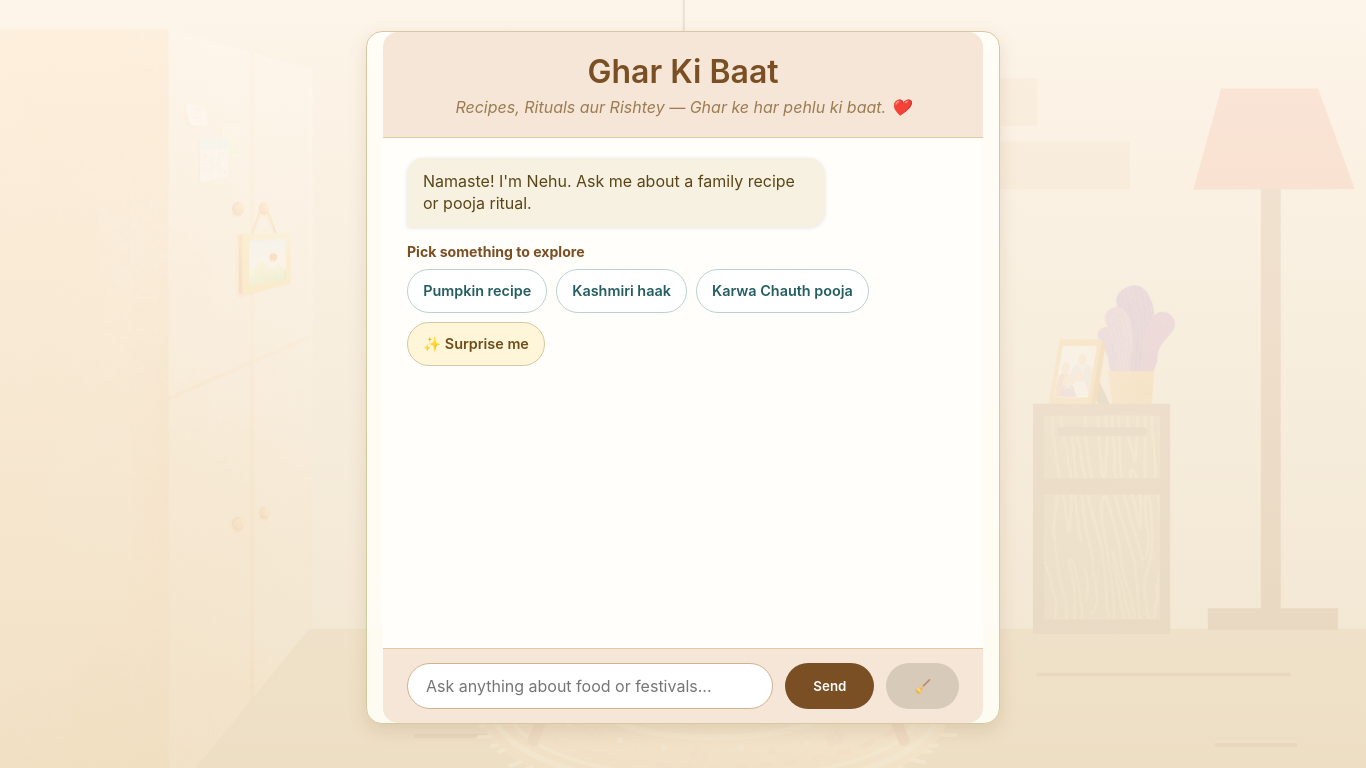
Scenario: renders recipe response titles and instructions as structured content
The image size is (1366, 768).
Expected: the text "Namaste! I'm Nehu" is shown, x1=423 y1=171 x2=795 y2=213
Expected: the button "✨ Surprise me" is shown, x1=407 y1=322 x2=545 y2=366
Click the button "Pumpkin recipe".
click(477, 291)  # box x1=407 y1=269 x2=547 y2=313
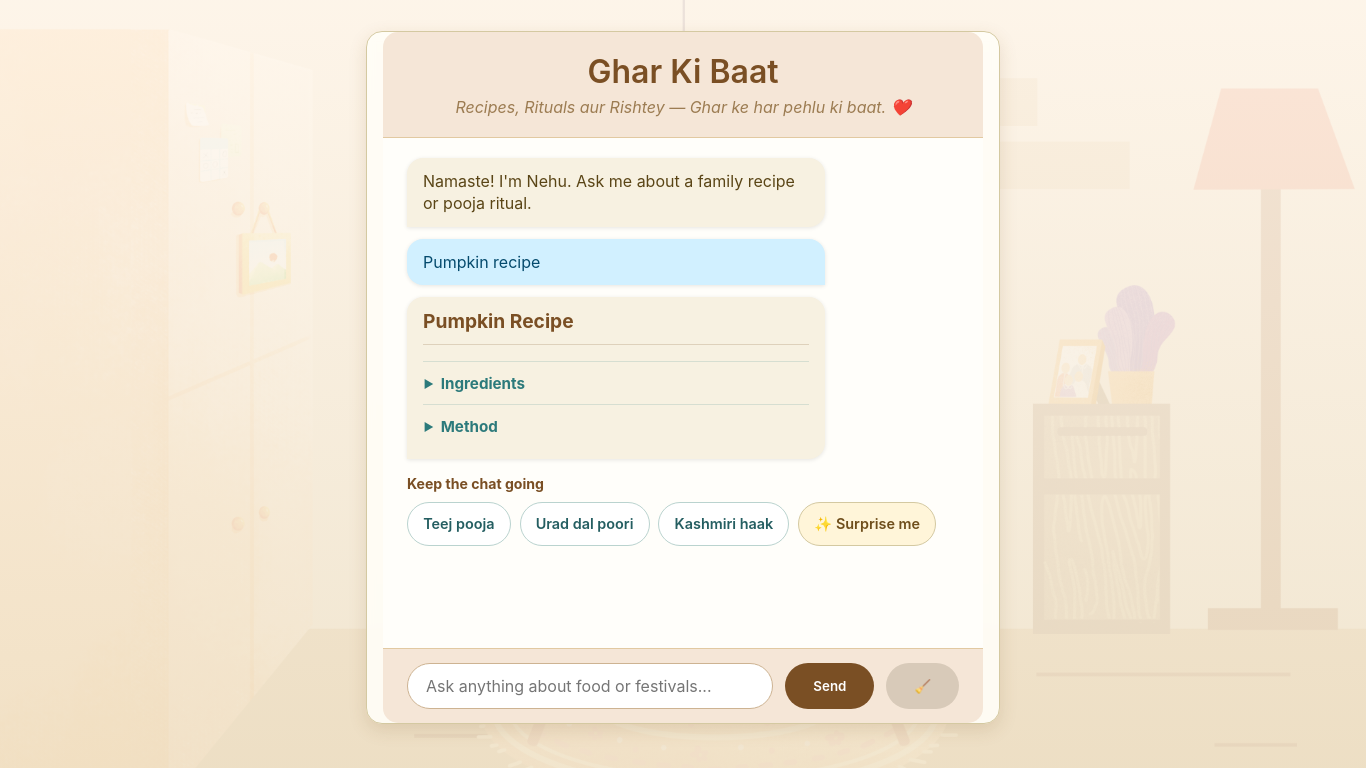
Result: the heading "Pumpkin Recipe" is shown at x1=423 y1=309 x2=809 y2=345
Click the heading "Ingredients".
click(483, 383)  # box x1=441 y1=374 x2=525 y2=393
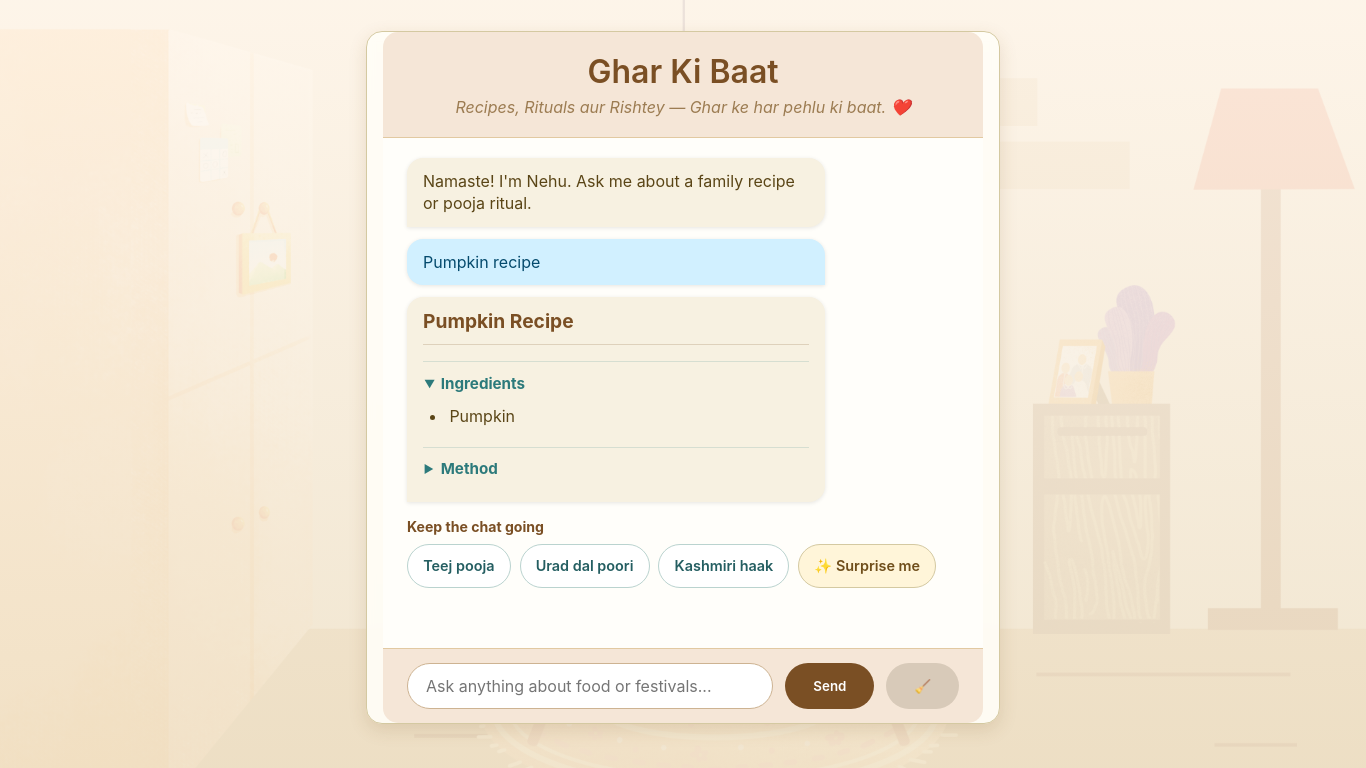
Result: the button "Teej pooja" is shown at x1=407 y1=544 x2=511 y2=588
Result: the list item "Pumpkin" is shown at x1=449 y1=406 x2=515 y2=426
